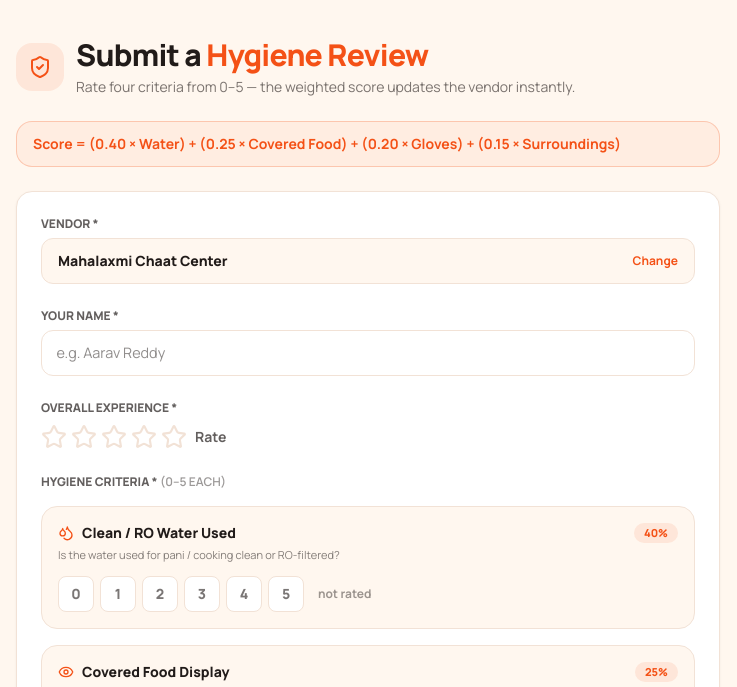
Test: HygieneReview › requires rating ALL four criteria, not just one
Step 1. Type "Partial Reviewer" into the field with placeholder "e.g. Aarav Reddy" → (368, 353), box [41, 330, 695, 376]
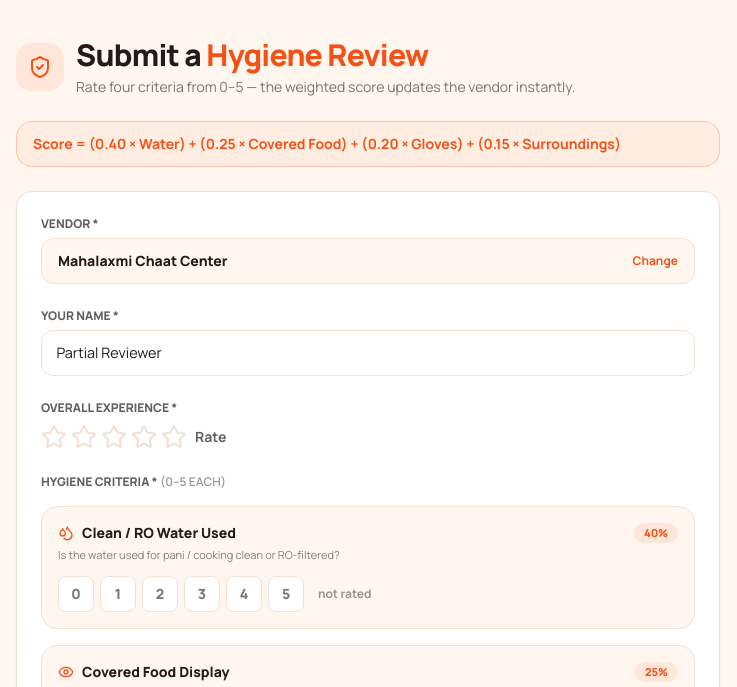
Step 2. Click the radio button named "5 stars" → (174, 437), box [161, 424, 187, 450]
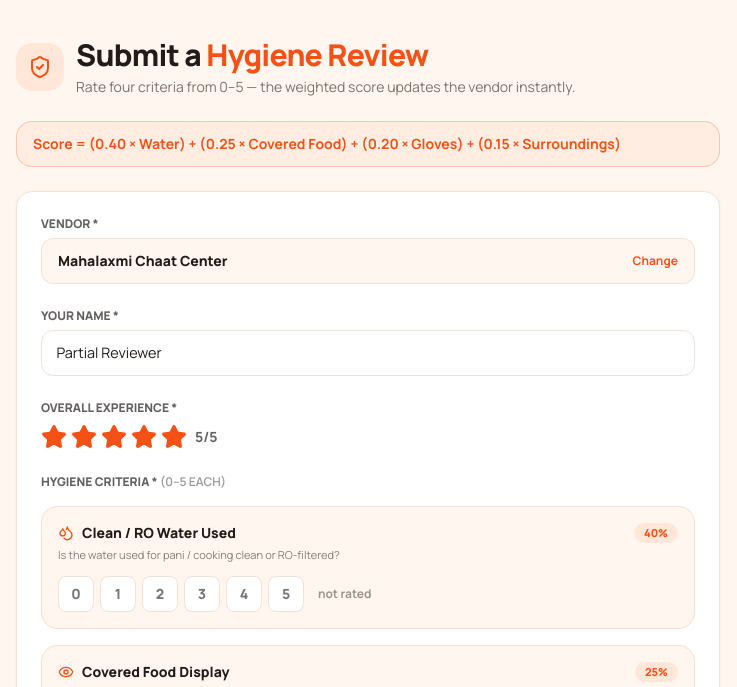
Step 3. Click the button named "Clean / RO Water Used: 5 of 5" → (286, 594), box [268, 576, 304, 612]
(page scrolled)
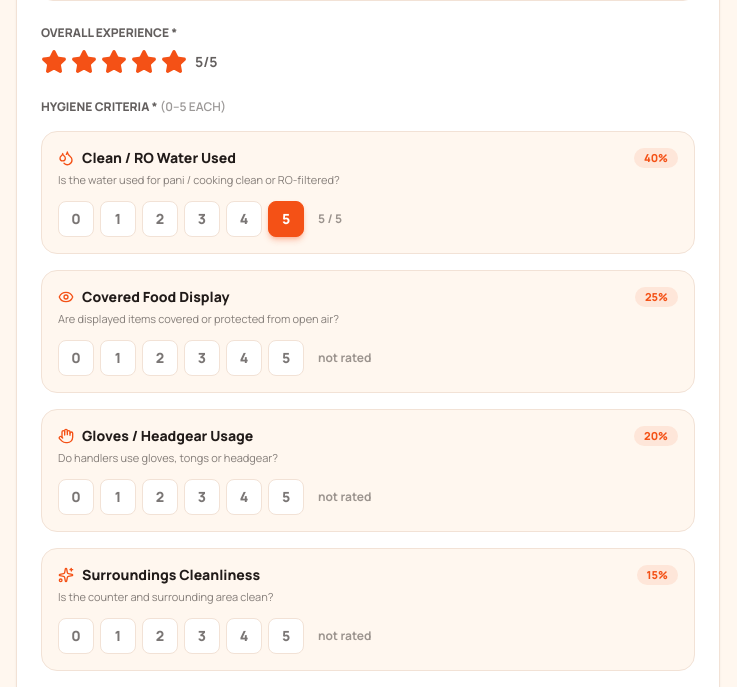
Step 4. Click the button named "Covered Food Display: 5 of 5" → (286, 358), box [268, 340, 304, 376]
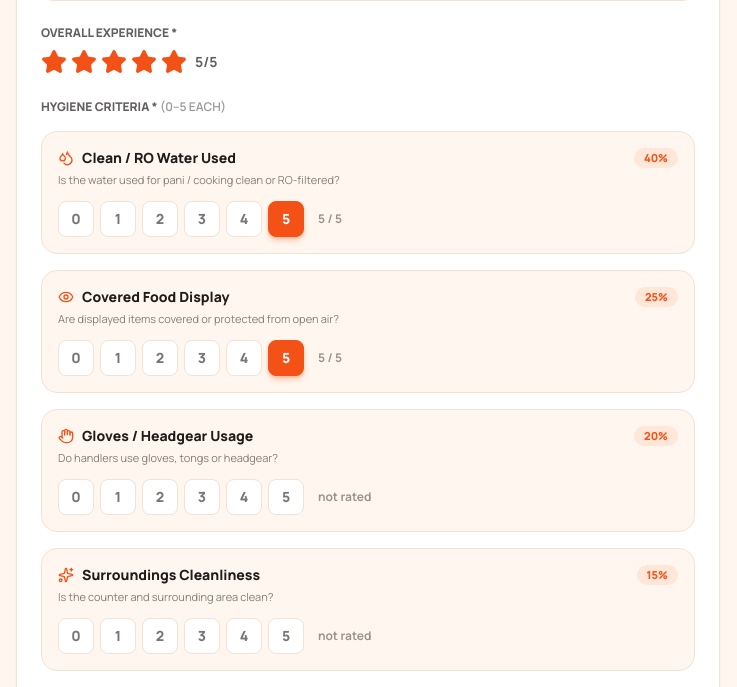
Step 5. Click the button named "Gloves / Headgear Usage: 5 of 5" → (286, 497), box [268, 479, 304, 515]
(page scrolled)
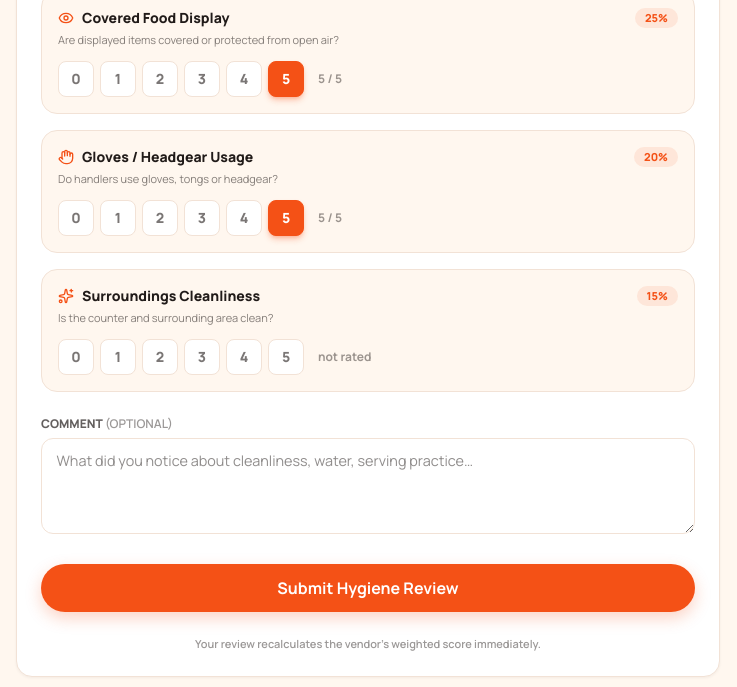
Step 6. Click the button "Submit Hygiene Review" → (368, 588), box [41, 564, 695, 612]
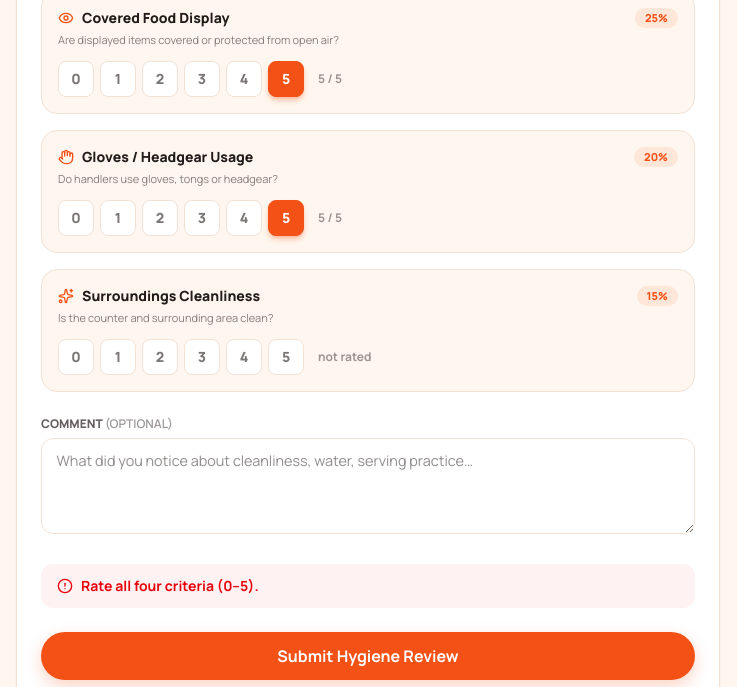
Now the text "Rate all four criteria (0–5)." is shown, box [41, 564, 695, 608]
